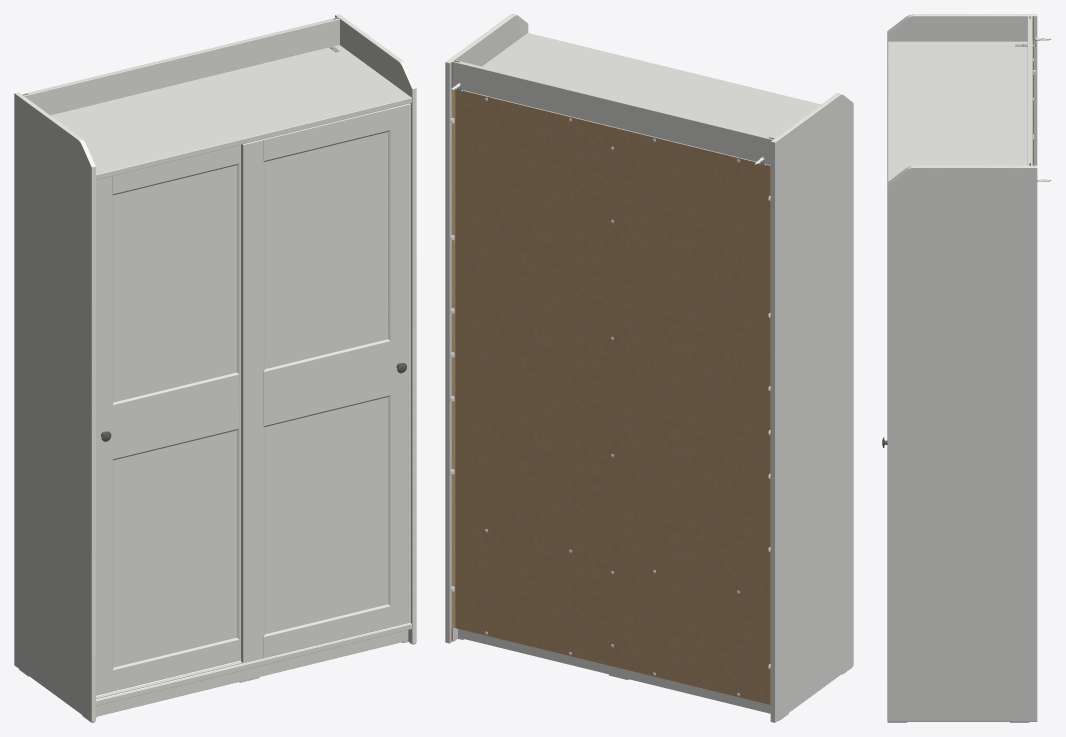
3 renders of one model, left to right at view 1: azimuth 30°, elevation 25°; view 2: azimuth 150°, elevation 25°; view 3: azimuth 270°, elevation 25°, orthographic. The views are drawn at different scales.
Visible parts, largest first — view 1: world; view 2: world; view 3: world.
Boxes of the visible parts, x1,y1,x2,y2 form: world: (14,14,416,722); world: (445,14,853,722); world: (882,14,1051,722).
Bounding box in the file's own units: 1.18 × 1.99 × 0.55.
Materials: 1 (1 with a texture image).
